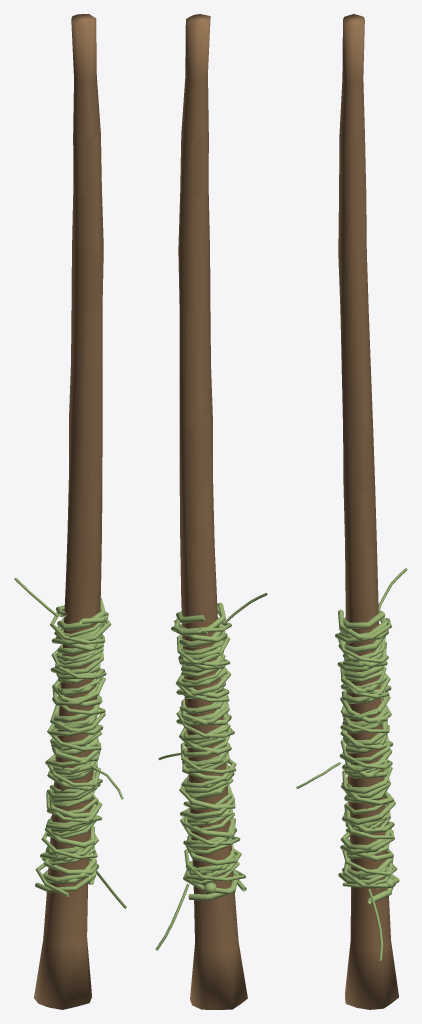
File: Primitivestick.glb
The picture shows the model from 3 angles, left to right: view 1: azimuth 30°, elevation 25°; view 2: azimuth 210°, elevation 25°; view 3: azimuth 270°, elevation 25°; orthographic projection.
Parts seen in each view (by area): view 1: Primitivestick_Shaft, Primitivestick_Grass; view 2: Primitivestick_Shaft, Primitivestick_Grass; view 3: Primitivestick_Shaft, Primitivestick_Grass.
Boxes of the visible parts, left/top/right/bottom form: Primitivestick_Shaft: left=34, top=14, right=103, bottom=1009; Primitivestick_Grass: left=14, top=577, right=126, bottom=908; Primitivestick_Shaft: left=178, top=14, right=247, bottom=1009; Primitivestick_Grass: left=155, top=593, right=267, bottom=950; Primitivestick_Shaft: left=338, top=14, right=398, bottom=1009; Primitivestick_Grass: left=296, top=568, right=407, bottom=960.
Size of the model in its own units: 0.0956 by 0.9 by 0.0925.
